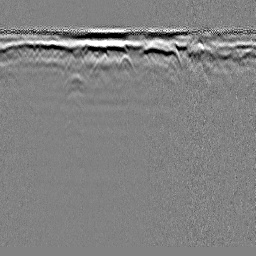cavity: (117, 52, 136, 72)
